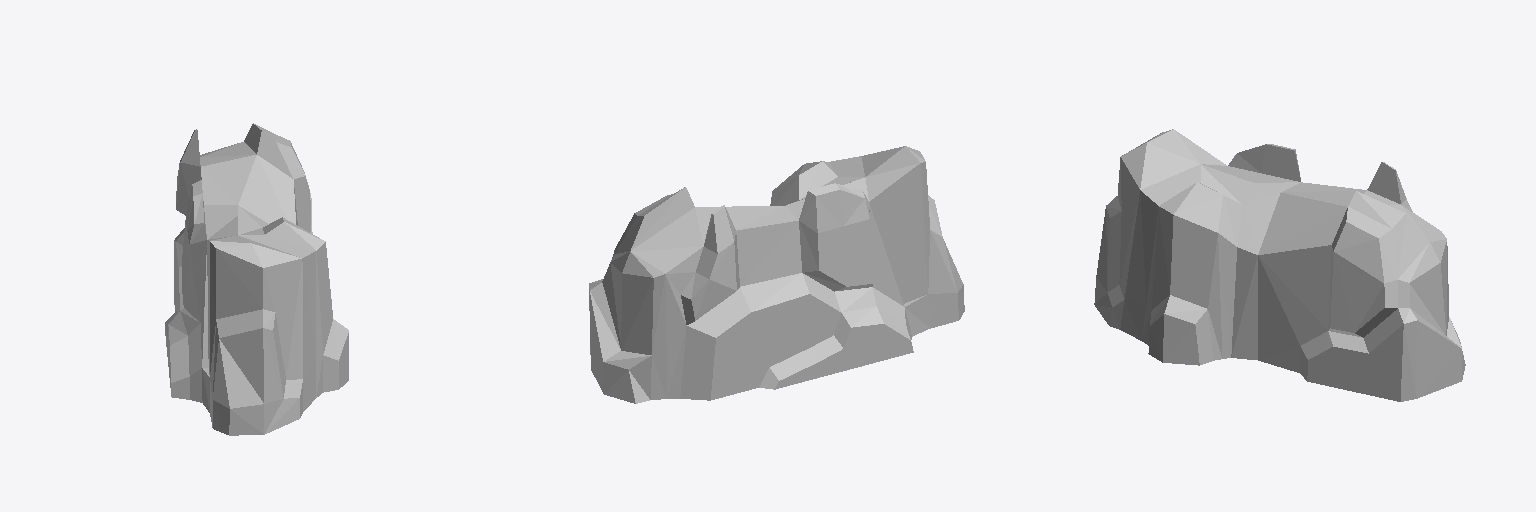
The model's file is stone1.obj.
3 renders of one model, left to right at view 1: azimuth 30°, elevation 25°; view 2: azimuth 150°, elevation 25°; view 3: azimuth 270°, elevation 25°, orthographic.
Parts seen in each view (by area): view 1: Cliffc_lush_(3); view 2: Cliffc_lush_(3); view 3: Cliffc_lush_(3).
Part boxes in pixels (x1,y1,x2,y2): Cliffc_lush_(3): (165,123,348,435); Cliffc_lush_(3): (589,146,964,403); Cliffc_lush_(3): (1094,129,1465,401).
Size of the model in its own units: 1984 by 1469 by 2722.